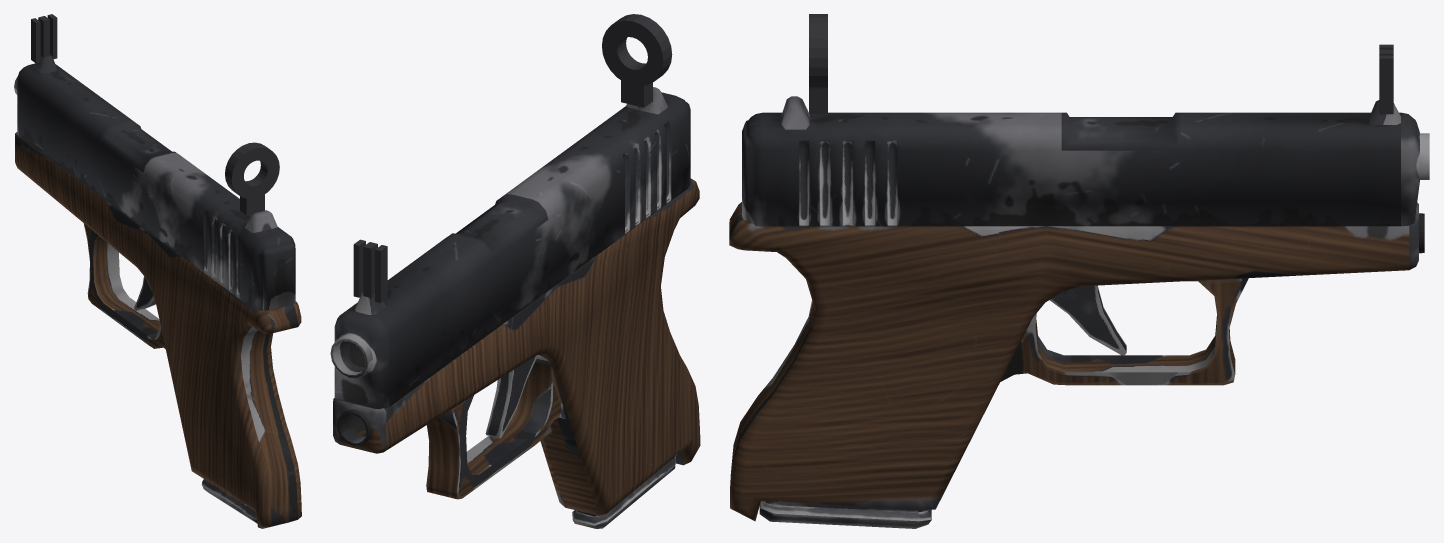
Rendered from pistol.glb.
3 views of the same model, side by side, from view 1: azimuth 30°, elevation 25°; view 2: azimuth 150°, elevation 25°; view 3: azimuth 270°, elevation 25° (orthographic). The views are drawn at different scales.
Parts seen in each view (by area): view 1: pew, pewhaut, rear_ring, pewmagazine, rear_stem, front_ear-1, front_post, pewtrigger, front_ear1; view 2: pew, pewhaut, rear_ring, pewtrigger, pewmagazine, rear_stem, front_ear-1, front_post, front_ear1; view 3: pew, pewhaut, pewmagazine, pewtrigger, rear_ring, front_ear1.
Part boxes in pixels (x1,y1,x2,y2): pew: (15, 132, 301, 528); pewhaut: (14, 55, 295, 310); rear_ring: (225, 142, 279, 198); pewmagazine: (201, 479, 257, 523); rear_stem: (240, 191, 264, 215); front_ear-1: (31, 18, 40, 63); front_post: (38, 16, 49, 57); pewtrigger: (134, 276, 155, 310); front_ear1: (47, 14, 57, 59); pew: (333, 178, 700, 515); pewhaut: (330, 87, 690, 408); rear_ring: (602, 14, 672, 85); pewtrigger: (485, 356, 536, 438); pewmagazine: (572, 456, 675, 528); rear_stem: (621, 76, 652, 107); front_ear-1: (375, 245, 387, 302); front_post: (363, 242, 377, 299); front_ear1: (353, 239, 365, 297); pew: (729, 202, 1424, 521); pewhaut: (742, 96, 1429, 226); pewmagazine: (759, 501, 931, 528); pewtrigger: (1049, 285, 1126, 355); rear_ring: (809, 14, 827, 89); front_ear1: (1379, 55, 1393, 114).
Bounding box in the file's own units: 0.02 × 0.1474 × 0.185.
Materials: 2 (1 with a texture image).
